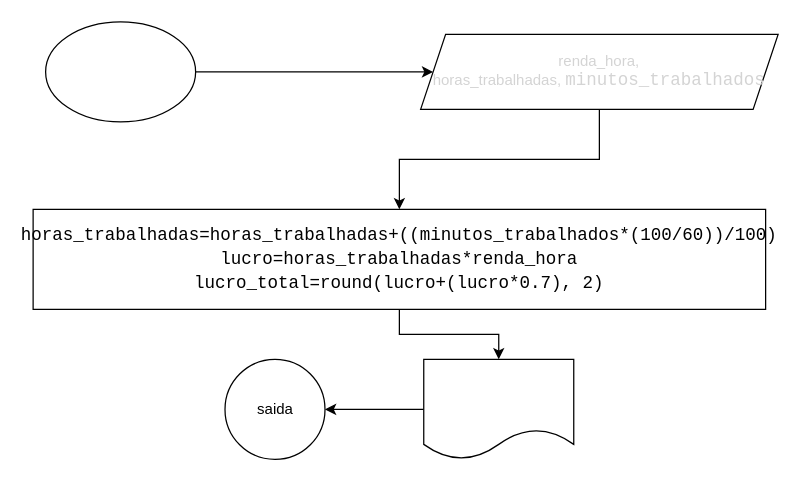
The diagram is 800 pixels wide and 481 high, and some of its shapes have lost their labels. Each missing label, with the centre of its shape:
"inicio" belongs at (x=120, y=71).
"lucro_total" belongs at (x=498, y=408).
